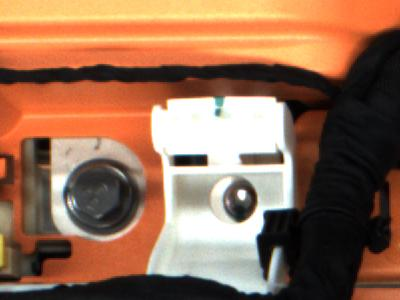nut_b: (55, 149, 148, 241)
